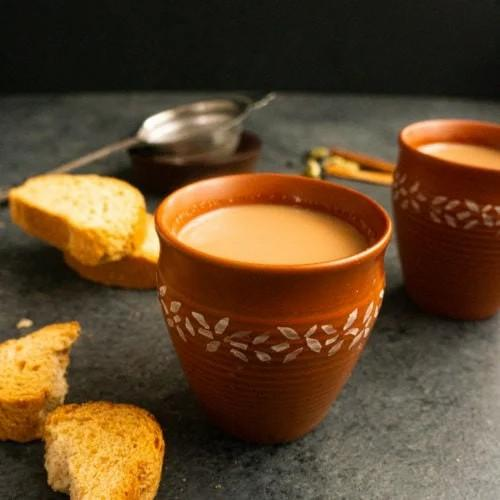Chai: (182, 207, 365, 264), (423, 141, 500, 176)
